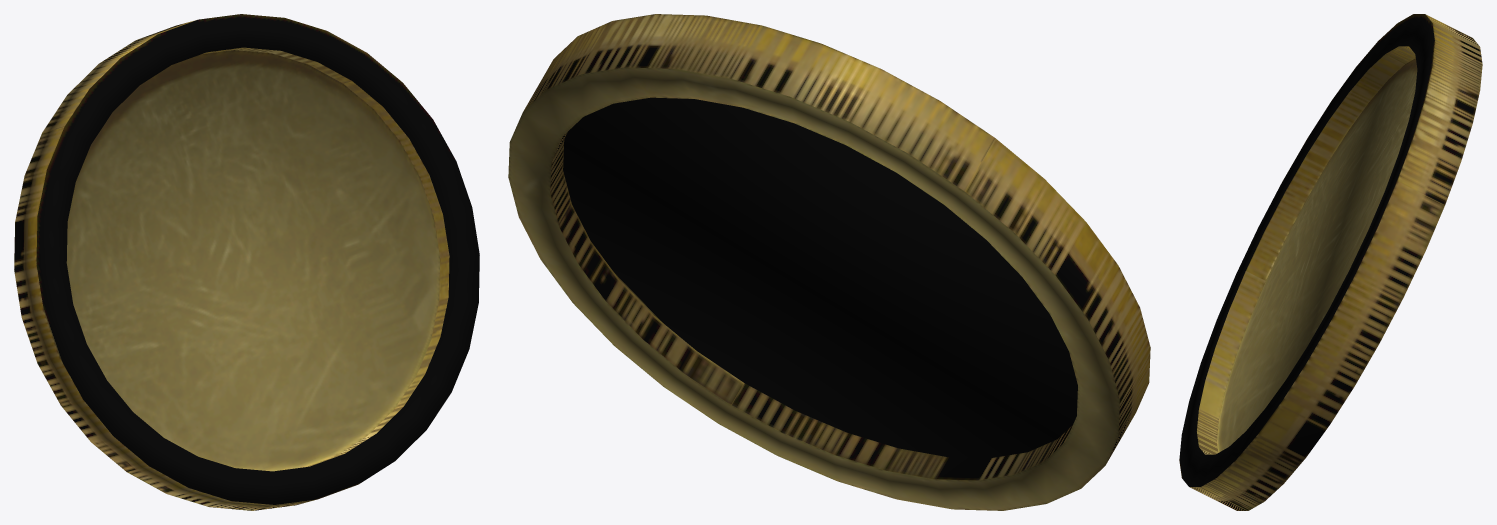
Rendered from GO_DM_jeton-antique.gltf.
3 views of the same model, side by side, from view 1: azimuth 30°, elevation 25°; view 2: azimuth 150°, elevation 25°; view 3: azimuth 270°, elevation 25° (orthographic). The views are drawn at different scales.
Parts seen in each view (by area): view 1: Jeton_SM.004; view 2: Jeton_SM.004; view 3: Jeton_SM.004.
Part boxes in pixels (x1,y1,x2,y2): Jeton_SM.004: (14,14,479,510); Jeton_SM.004: (508,14,1150,510); Jeton_SM.004: (1179,14,1482,510).
Size of the model in its own units: 0.0808 by 0.0748 by 0.0464.
Materials: 1 (1 with a texture image).
